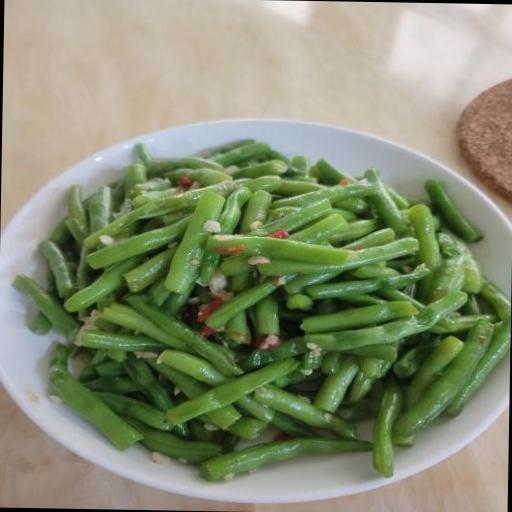buncis_rebus: (3, 110, 512, 501)
